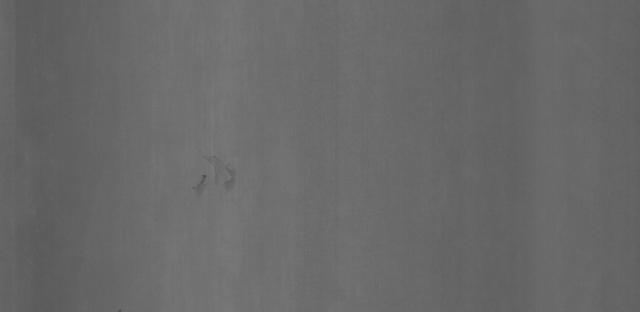water_spot: (186, 148, 241, 209)
